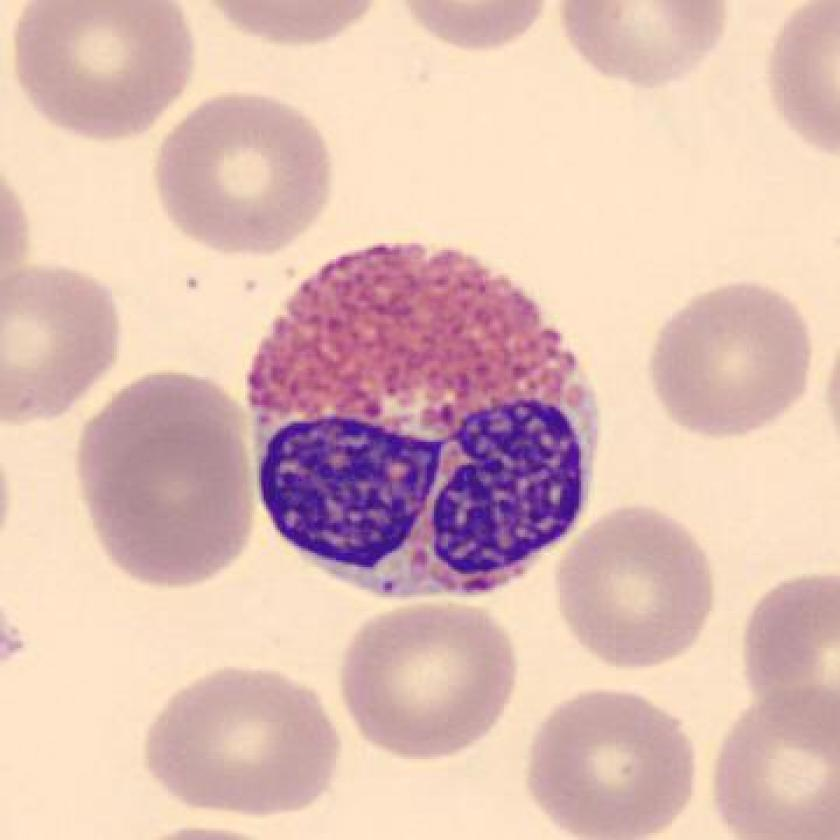eosinophil: (232, 228, 612, 617)
